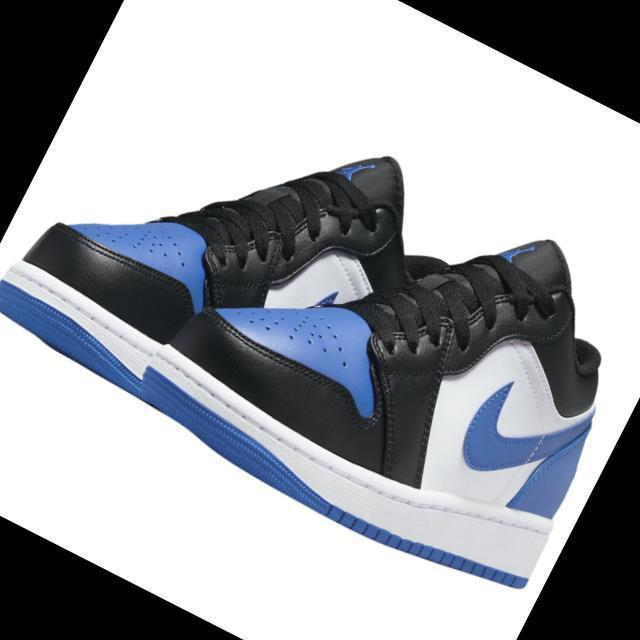nike original jordan 1: (119, 101, 640, 617), (0, 22, 493, 505)
